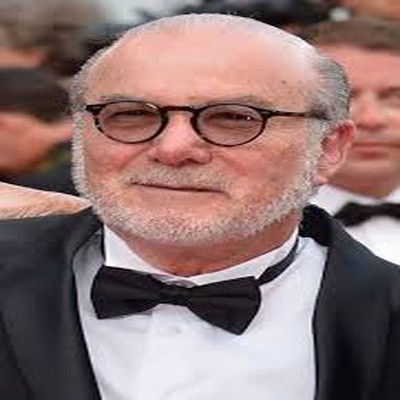eywear: (94, 90, 310, 161)
